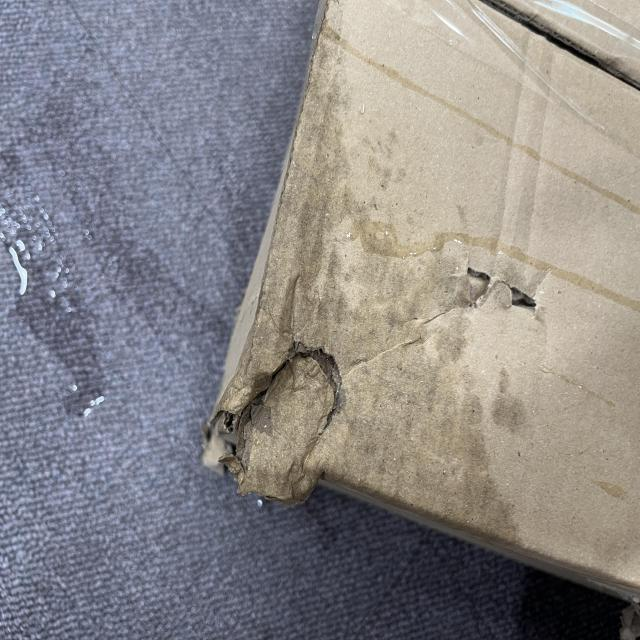wet: (92, 310, 444, 640)
